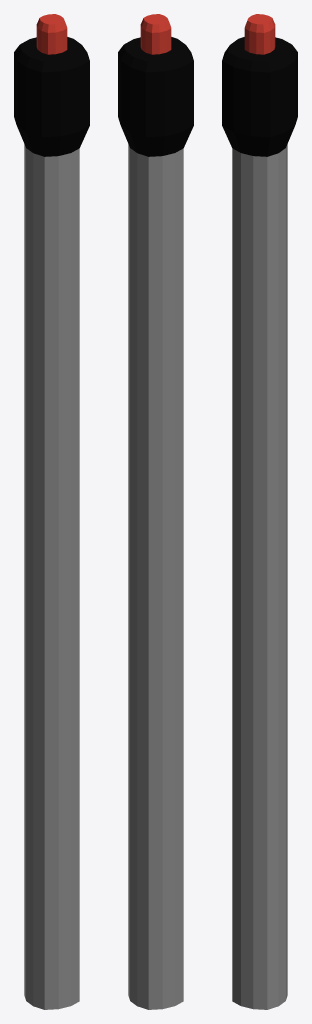
Rendered from heater.fbx.
The picture shows the model from 3 angles, left to right: view 1: azimuth 30°, elevation 25°; view 2: azimuth 210°, elevation 25°; view 3: azimuth 330°, elevation 25°; orthographic projection.
Parts seen in each view (by area): view 1: Heater.002; view 2: Heater.002; view 3: Heater.002.
Boxes of the visible parts, <box> form: Heater.002: <box>14,14,89,1009</box>; Heater.002: <box>118,14,193,1009</box>; Heater.002: <box>222,14,297,1009</box>.
Size of the model in its own units: 6.66 by 102 by 6.66.
